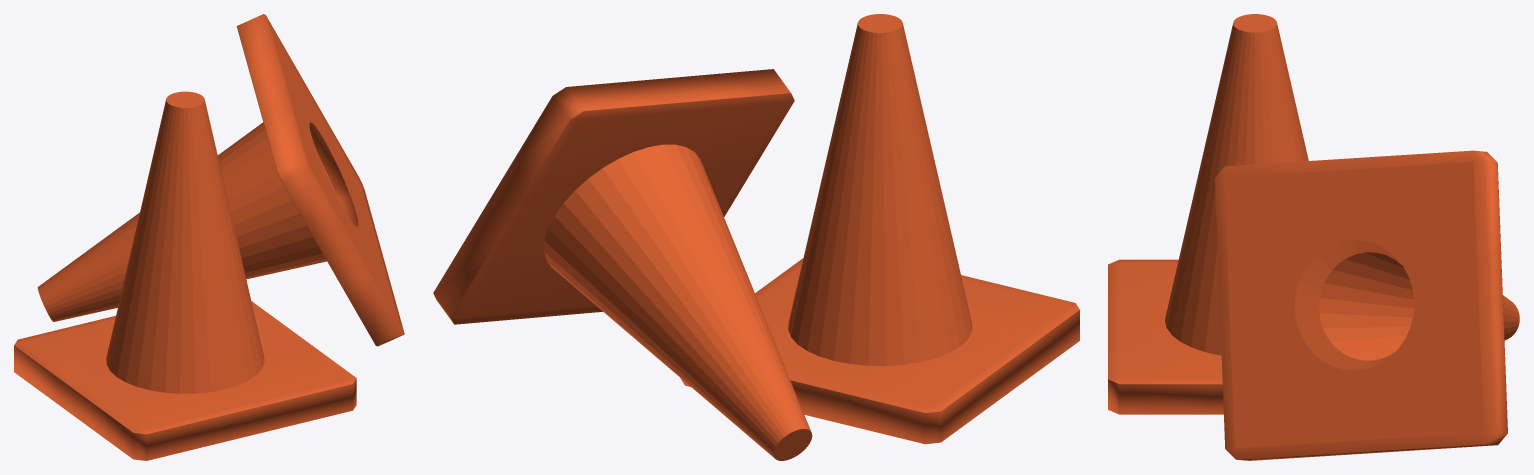
3 renders of one model, left to right at view 1: azimuth 30°, elevation 25°; view 2: azimuth 150°, elevation 25°; view 3: azimuth 270°, elevation 25°, orthographic. The views are drawn at different scales.
Parts seen in each view (by area): view 1: Cube, Cube.001; view 2: Cube.001, Cube; view 3: Cube.001, Cube.
Part boxes in pixels (x1,y1,x2,y2): Cube: [14, 91, 356, 460]; Cube.001: [37, 14, 404, 346]; Cube.001: [433, 69, 812, 460]; Cube: [680, 14, 1079, 444]; Cube.001: [1215, 150, 1519, 460]; Cube: [1108, 14, 1308, 414].
Size of what is drawn, in the model's own units: 3.51 by 2.49 by 2.8.
